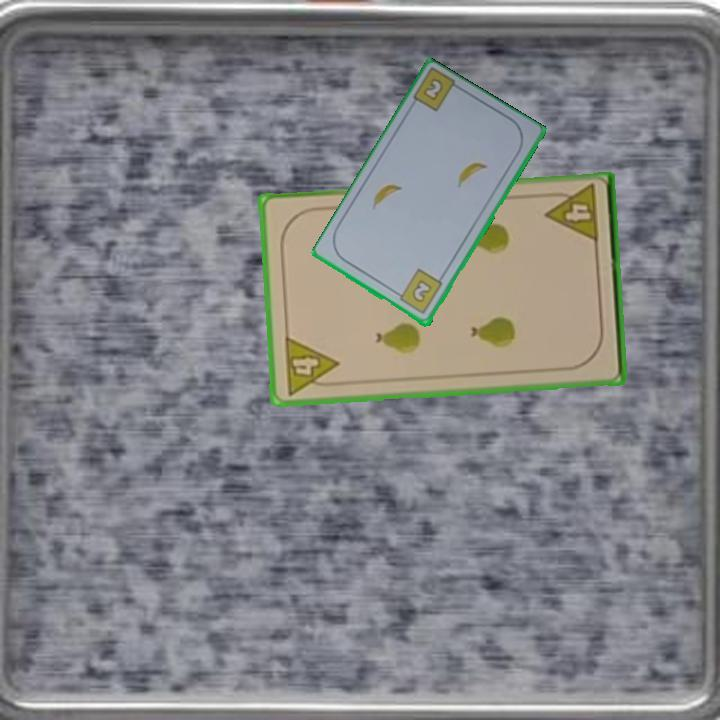2b: (392, 266, 445, 317), (419, 75, 446, 104)
4p: (280, 333, 342, 398), (542, 181, 602, 246)
